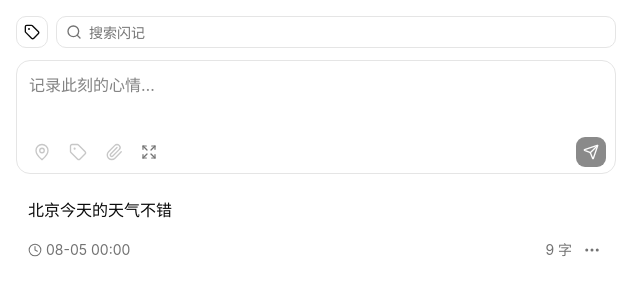
Test: MomentList 搜索 › 输入关键词防抖后带 q 重新请求，无结果时显示空态
Check: the text "北京今天的天气不错" is shown, box [28,200,172,220]
Type "beijing" into the field with placeholder "搜索闪记". click: coordinates (336, 32)
box: [56,16,616,48]
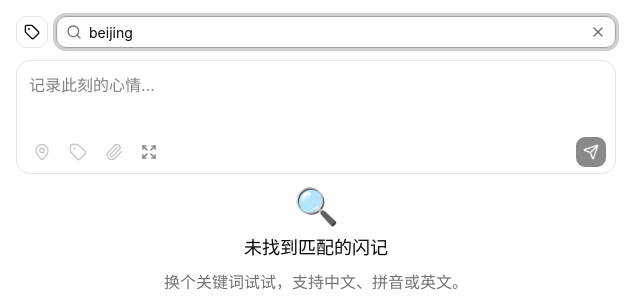
Check: the heading "未找到匹配的闪记" is shown, box [244,234,388,262]
